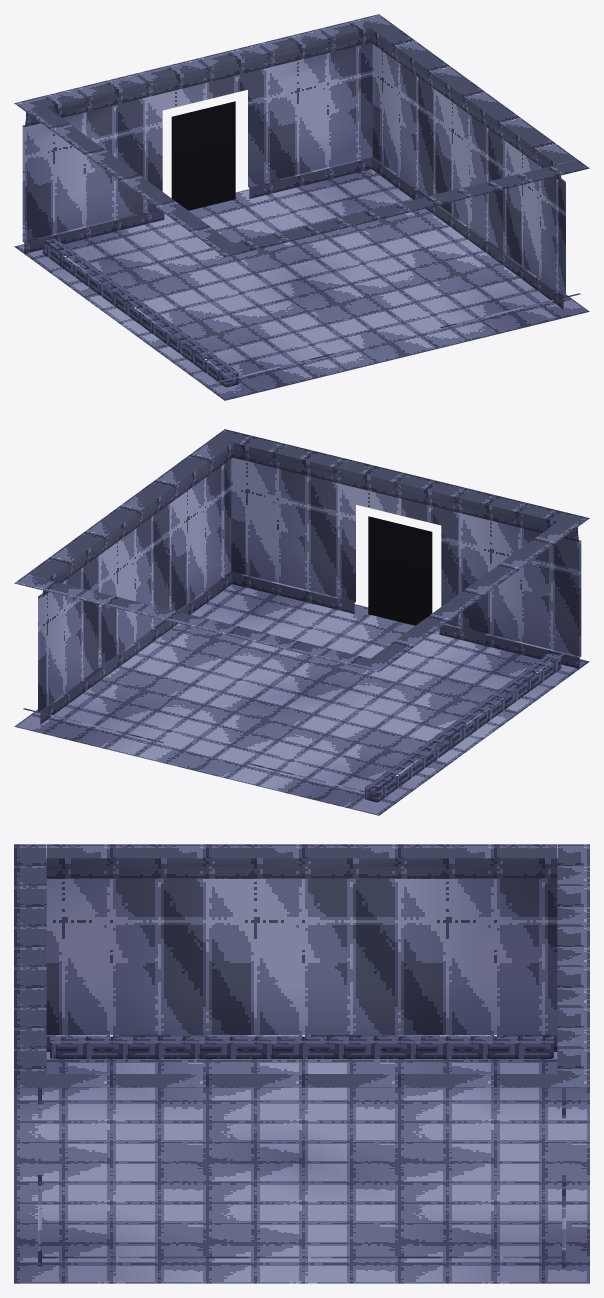
The model's file is cyroom.den.glb.
3 renders of one model, top to bottom at view 1: azimuth 30°, elevation 25°; view 2: azimuth 150°, elevation 25°; view 3: azimuth 270°, elevation 25°, orthographic. The views are drawn at different scales.
Parts seen in each view (by area): view 1: kit_shell_walls, kit_shell_floor, kit_card_lights, kit_trim; view 2: kit_shell_walls, kit_shell_floor, kit_card_lights, kit_trim; view 3: kit_shell_walls, kit_shell_floor, kit_trim.
Part boxes in pixels (x1,y1,x2,y2): kit_shell_walls: [14, 14, 589, 383]; kit_shell_floor: [14, 169, 589, 400]; kit_card_lights: [171, 101, 235, 210]; kit_trim: [42, 238, 238, 387]; kit_shell_walls: [14, 429, 589, 798]; kit_shell_floor: [14, 584, 589, 815]; kit_card_lights: [368, 516, 432, 625]; kit_trim: [365, 653, 561, 802]; kit_shell_walls: [14, 844, 589, 1268]; kit_shell_floor: [14, 1052, 589, 1283]; kit_trim: [50, 1035, 553, 1058].
Size of the model in its own units: 12 by 4.5 by 12.
7 materials, 7 textured.
